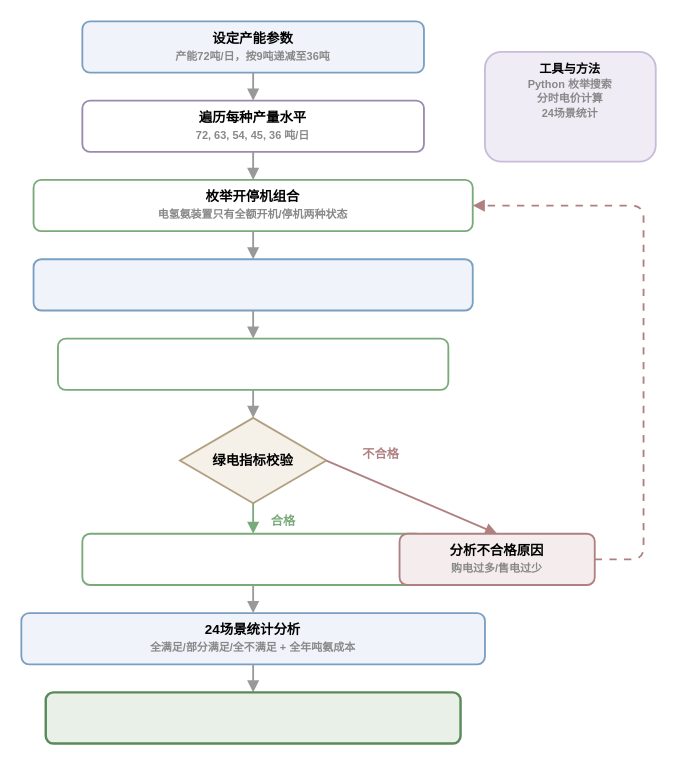
Some shapes in this 678 by 766 pixel diagram are drawn without their labels. The centre of each missing label's shape, as x and y in pixels:
"找最低成本时段 选择吨氨成本最低的开机时段组合" belongs at pixel 252 363.
"计算各时段购售电费用 分时电价 × 购电量 - 上网电价 × 售电量" belongs at pixel 252 284.
"记录最优方案 开机时段 + 吨氨成本 + 绿电指标" belongs at pixel 252 558.
"输出结果 最优产量 + 全年成本分布曲线 + 指标统计" belongs at pixel 252 717.
